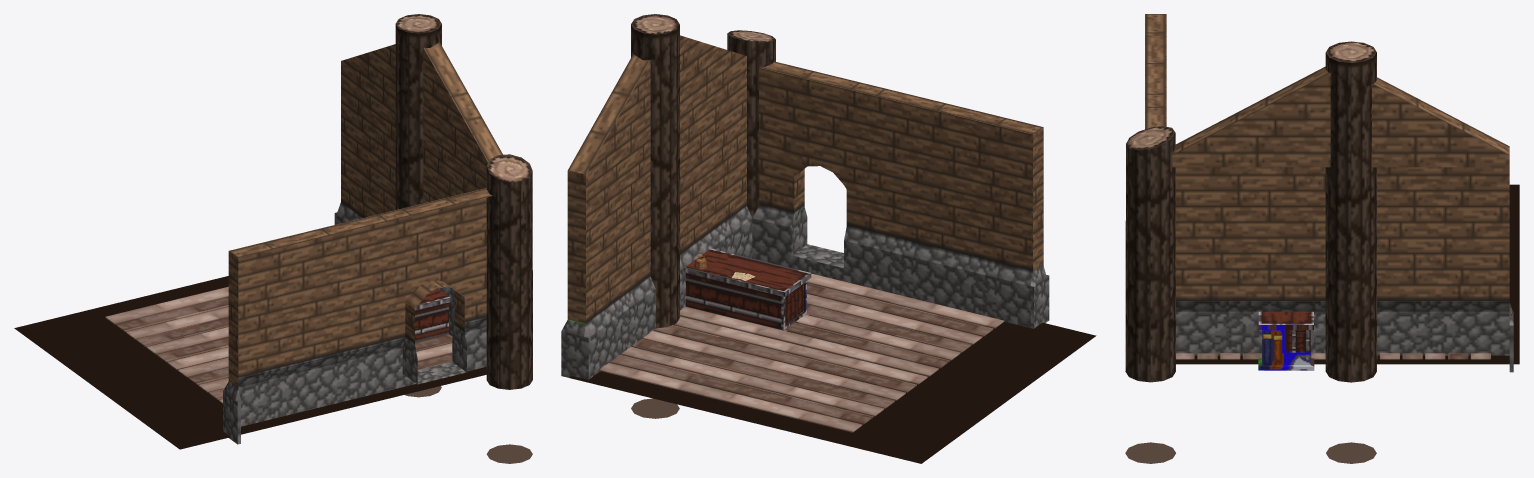
The model's file is CounterStatic.fbx.
The picture shows the model from 3 angles, left to right: view 1: azimuth 30°, elevation 25°; view 2: azimuth 150°, elevation 25°; view 3: azimuth 270°, elevation 25°; orthographic projection. The views are drawn at different scales.
Visible parts, largest first — view 1: Counter; view 2: Counter; view 3: Counter.
Part boxes in pixels (bbox=[...]): Counter: bbox=[14, 14, 532, 463]; Counter: bbox=[561, 14, 1096, 463]; Counter: bbox=[1125, 14, 1519, 463].
Size of the model in its own units: 2693 by 2687 by 2397.
Materials: 6 (5 with a texture image).
